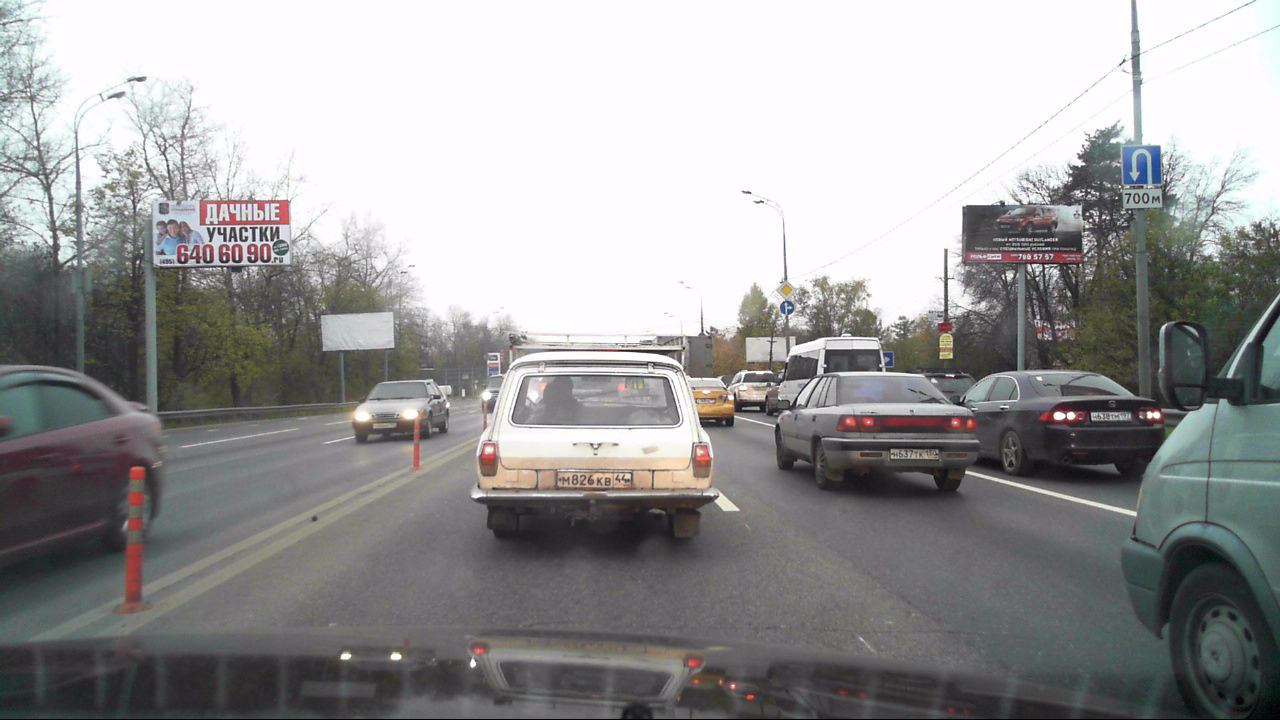U-turn: (1122, 146, 1161, 185)
